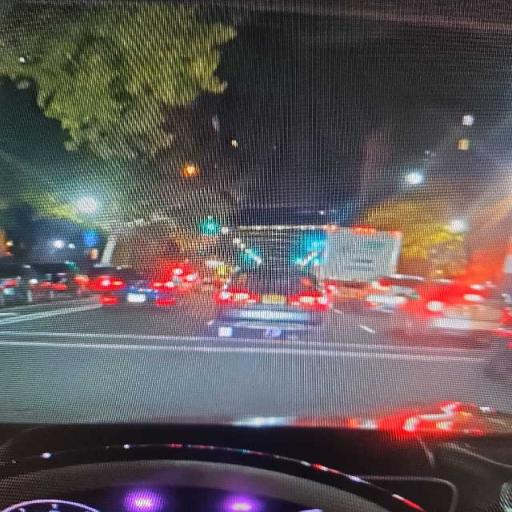car: (212, 265, 331, 339), (391, 282, 505, 342), (91, 269, 178, 307), (364, 275, 425, 312), (0, 263, 47, 306), (32, 263, 83, 296), (484, 320, 511, 381), (324, 280, 371, 309)
lane: (0, 339, 511, 421)
truck: (313, 226, 402, 301)
